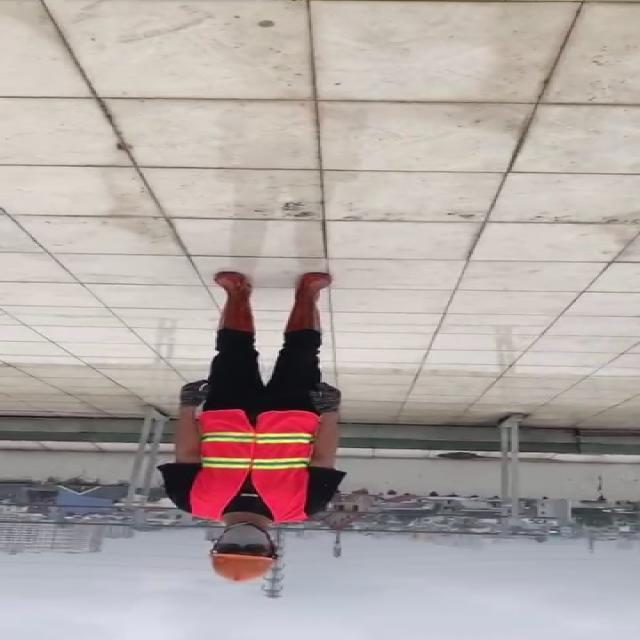Boots: (282, 271, 336, 331), (212, 271, 256, 330)
Gloves: (311, 381, 343, 412), (178, 380, 210, 404)
Helmet: (204, 551, 276, 583)
Vest: (190, 408, 318, 521)
